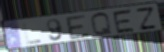9: (46, 19, 65, 42)
E: (64, 14, 92, 41), (112, 8, 137, 35)
L: (22, 22, 43, 45)
Q: (89, 12, 114, 38)
Z: (134, 6, 160, 31)
